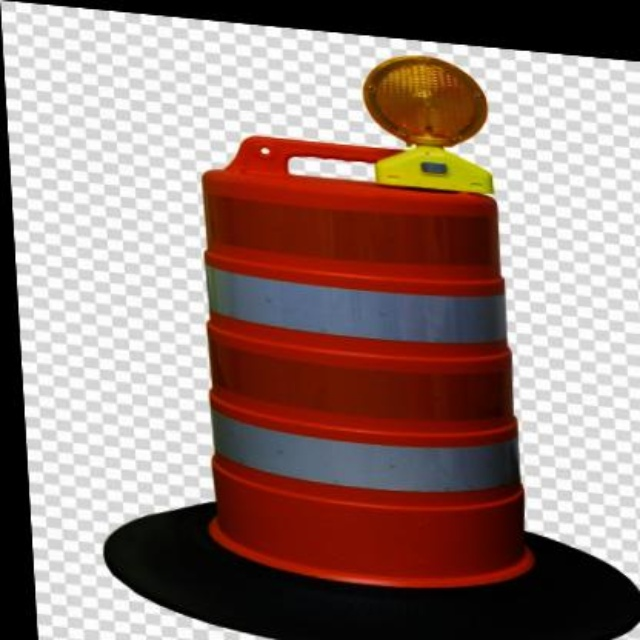obstacle: (148, 109, 547, 597)
